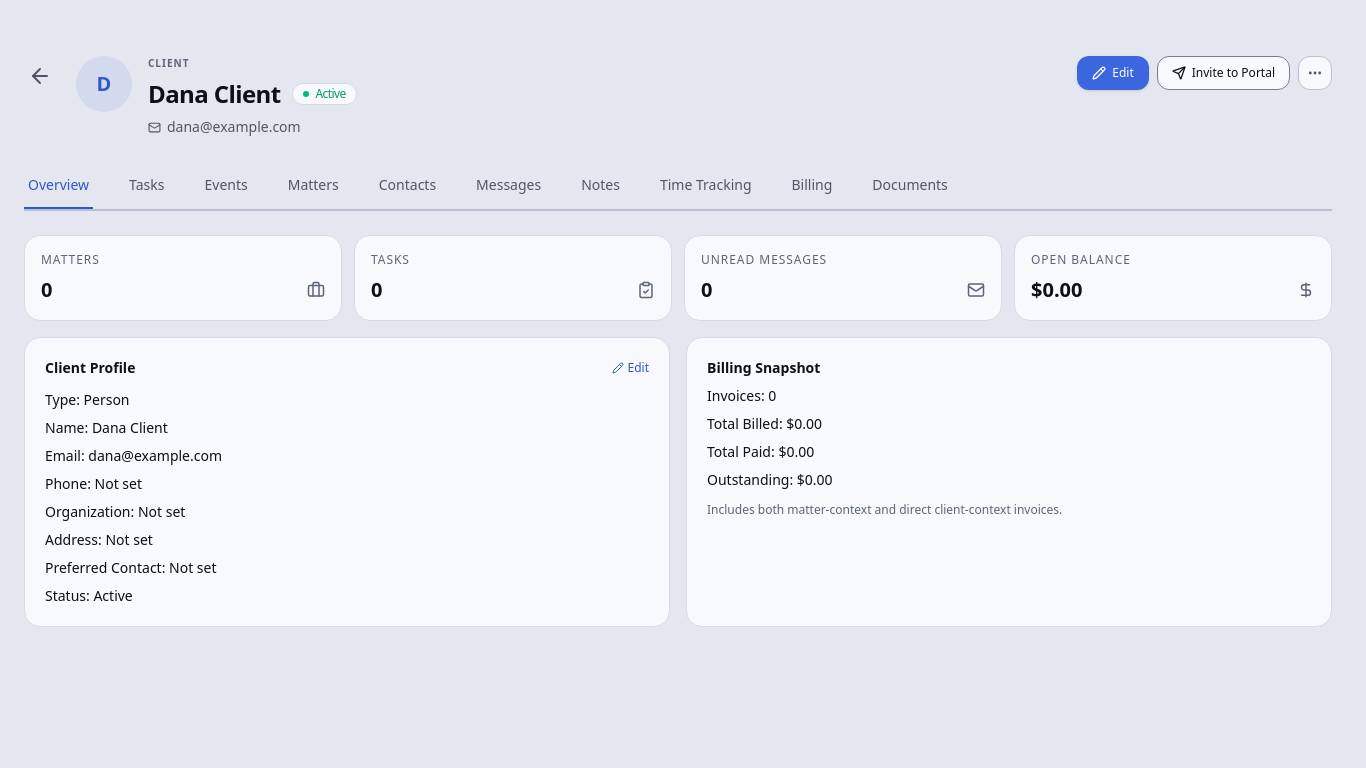
Test: client Billing tab invoice dialog › shows an open invoice balance from its total, payments and write-offs
The width and height of the screenshot is (1366, 768).
Click the button "Billing" at (812,186), box x1=788 y1=163 x2=836 y2=209
(page scrolled)
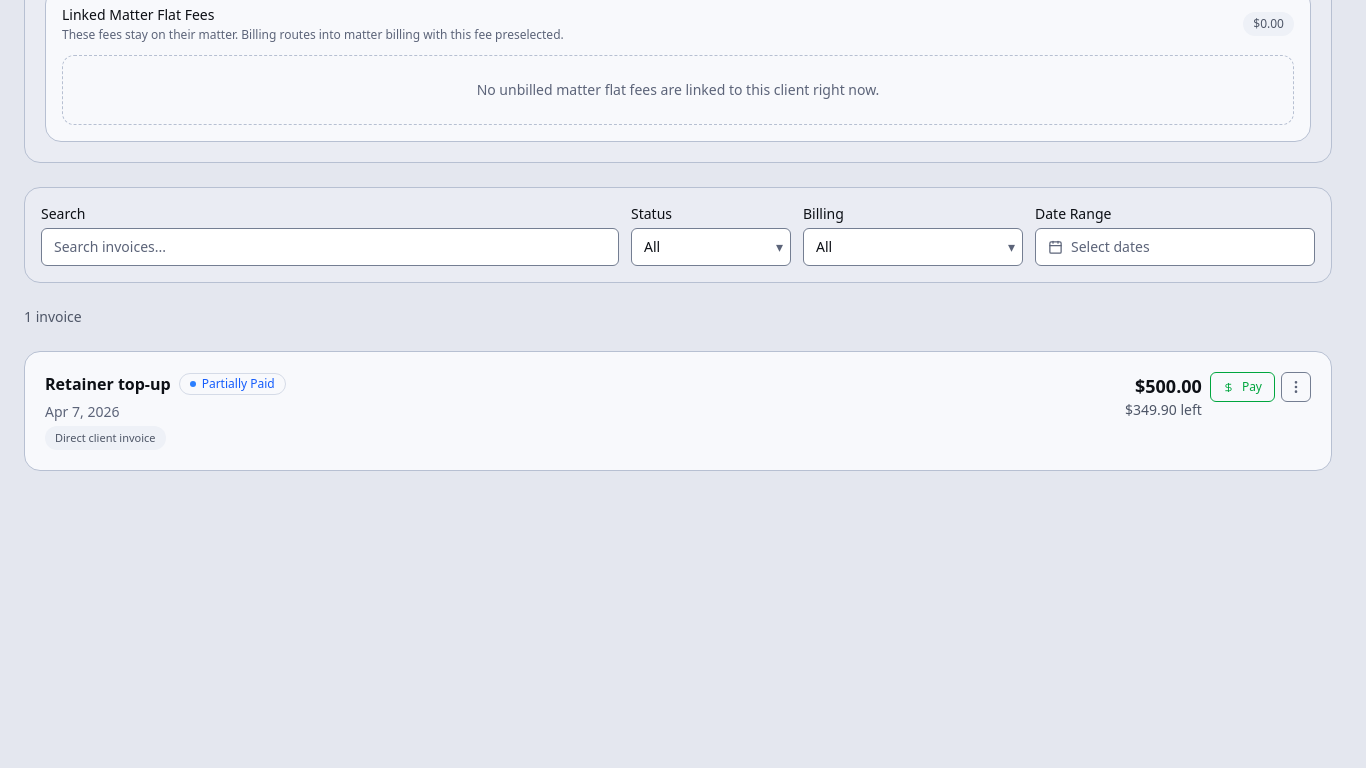
Click the text "Retainer top-up" at (108,384), box x1=45 y1=372 x2=171 y2=396
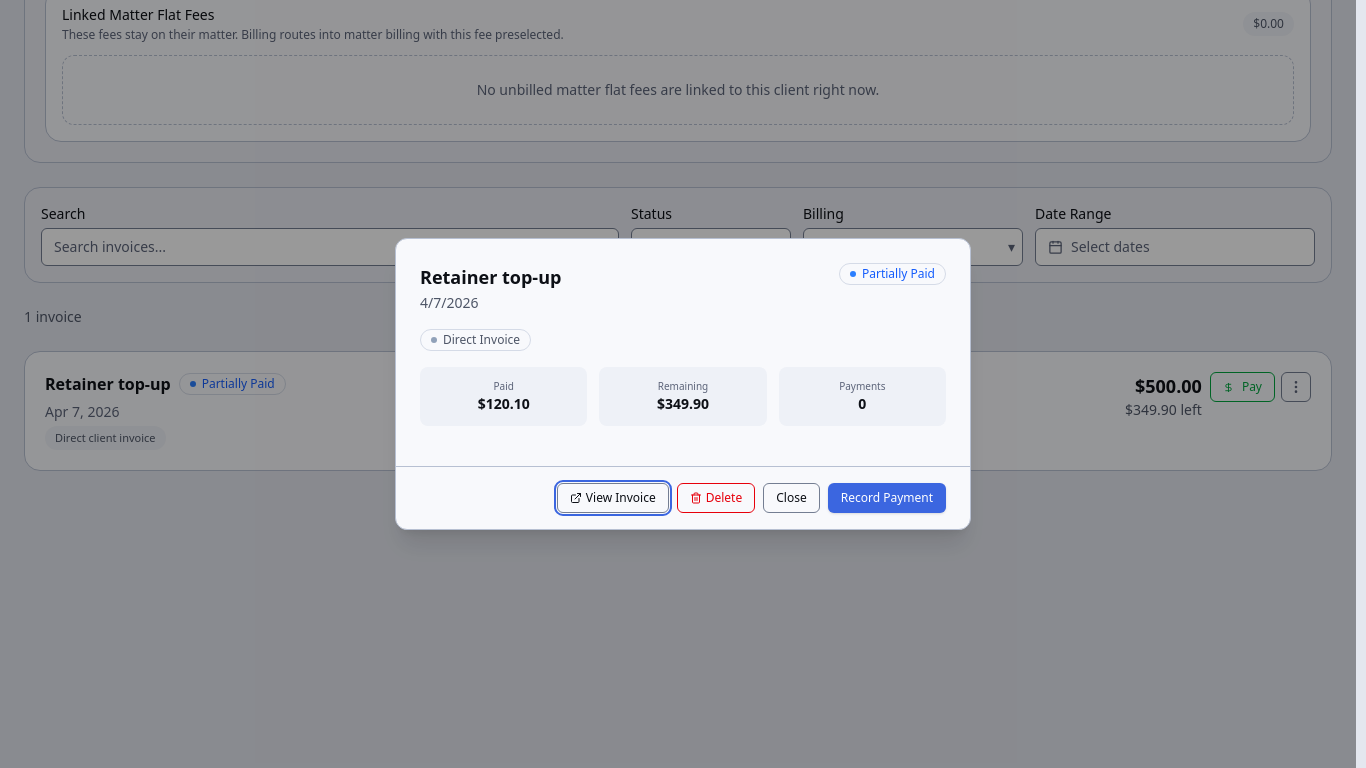
Check: the text "$349.90" is shown, box x1=657 y1=394 x2=709 y2=413
